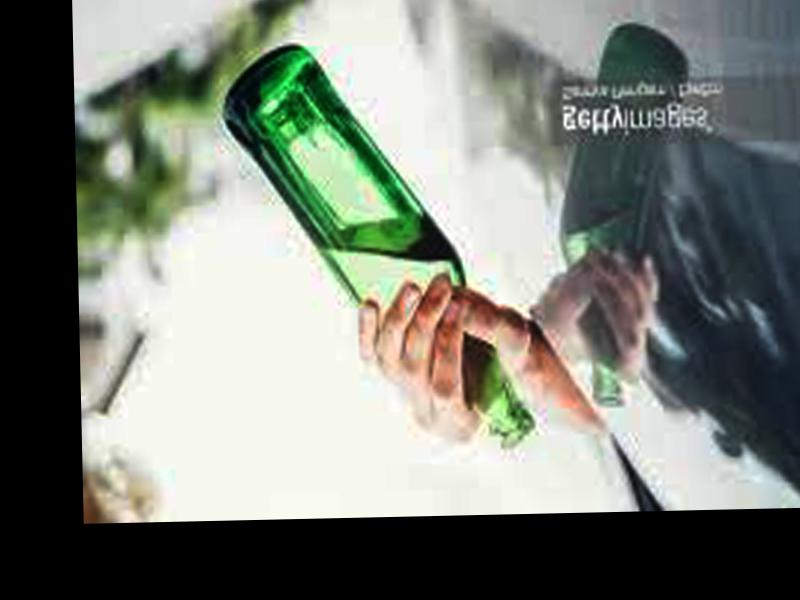Beer: (224, 37, 539, 451)
